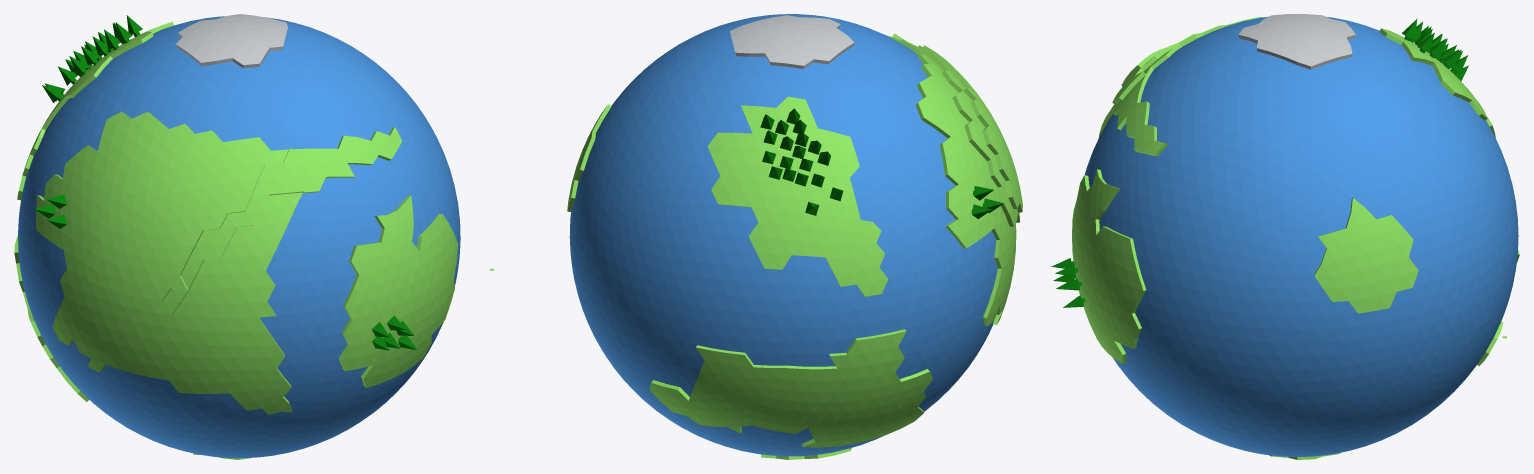
Rendered from planet1.glb.
3 views of the same model, side by side, from view 1: azimuth 30°, elevation 25°; view 2: azimuth 150°, elevation 25°; view 3: azimuth 270°, elevation 25° (orthographic).
Parts seen in each view (by area): view 1: Icosphere, Icosphere.001; view 2: Icosphere.001, Icosphere; view 3: Icosphere.001, Icosphere.
Part boxes in pixels (bbox=[...]): Icosphere: bbox=[14, 14, 458, 459]; Icosphere.001: bbox=[18, 16, 460, 458]; Icosphere.001: bbox=[569, 14, 997, 456]; Icosphere: bbox=[489, 15, 1022, 459]; Icosphere.001: bbox=[1085, 16, 1518, 456]; Icosphere: bbox=[1072, 14, 1519, 459].
Size of the model in its own units: 10.66 by 10.4 by 10.82.
